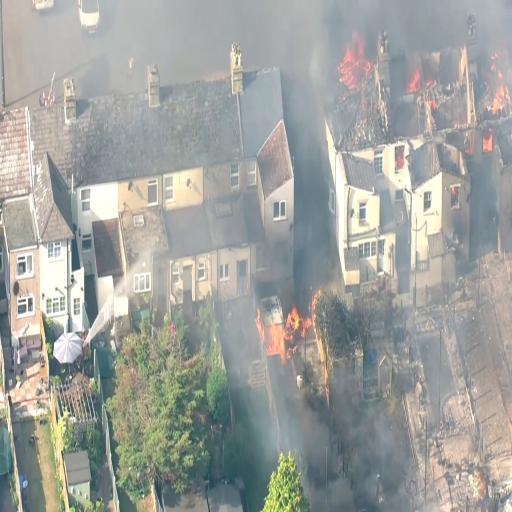fire: (242, 299, 311, 366)
